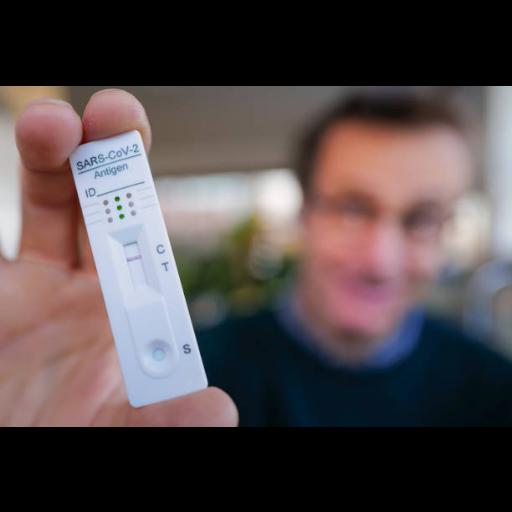Neg: (66, 128, 210, 409)
